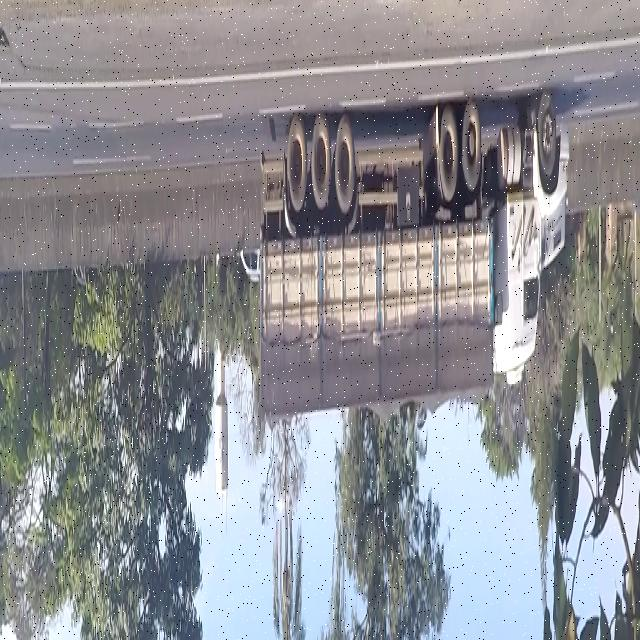-axle: (334, 110, 356, 218), (437, 101, 459, 204), (538, 87, 560, 190), (462, 99, 484, 200), (310, 108, 331, 213), (288, 115, 307, 216)
